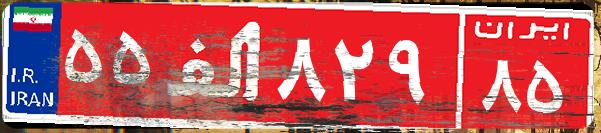2: (330, 28, 385, 110)
5: (57, 26, 110, 107), (110, 28, 158, 105), (525, 38, 570, 115)
8: (273, 28, 330, 110), (475, 38, 525, 113)
9: (385, 28, 445, 110)
الف: (158, 15, 273, 115)
